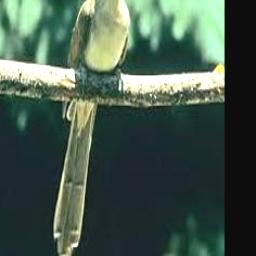Cuckoo: (53, 0, 131, 256)
